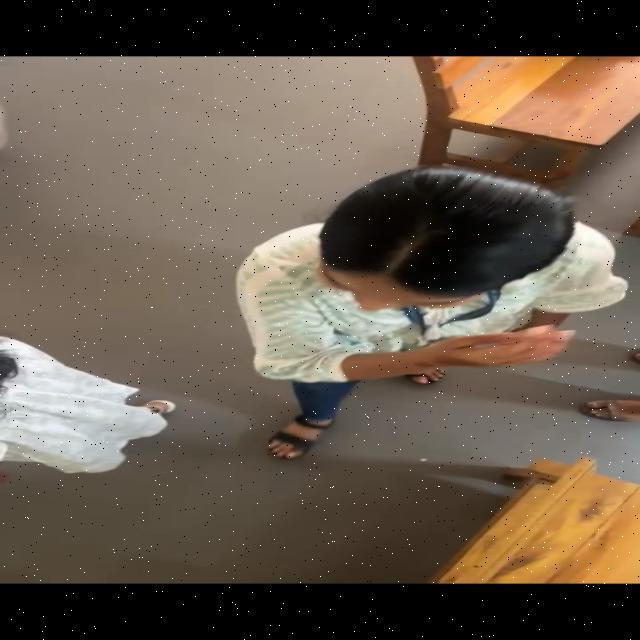humans: (223, 158, 624, 466)
